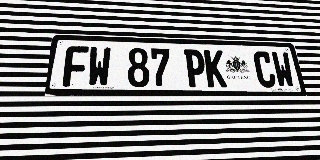7: (150, 48, 171, 87)
8: (128, 48, 149, 87)
C: (252, 51, 277, 88)
F: (62, 46, 89, 87)
K: (204, 50, 227, 87)
P: (184, 49, 207, 87)
W: (87, 47, 111, 87), (271, 52, 296, 88)
